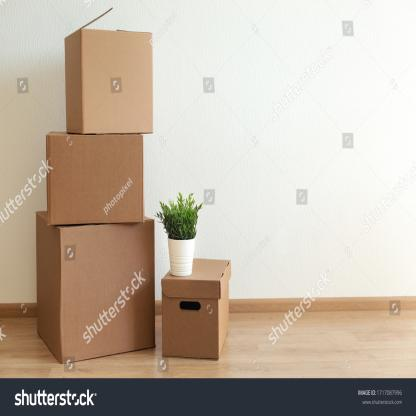box: (62, 219, 155, 364), (48, 134, 144, 224), (80, 26, 154, 135), (162, 277, 220, 360)
